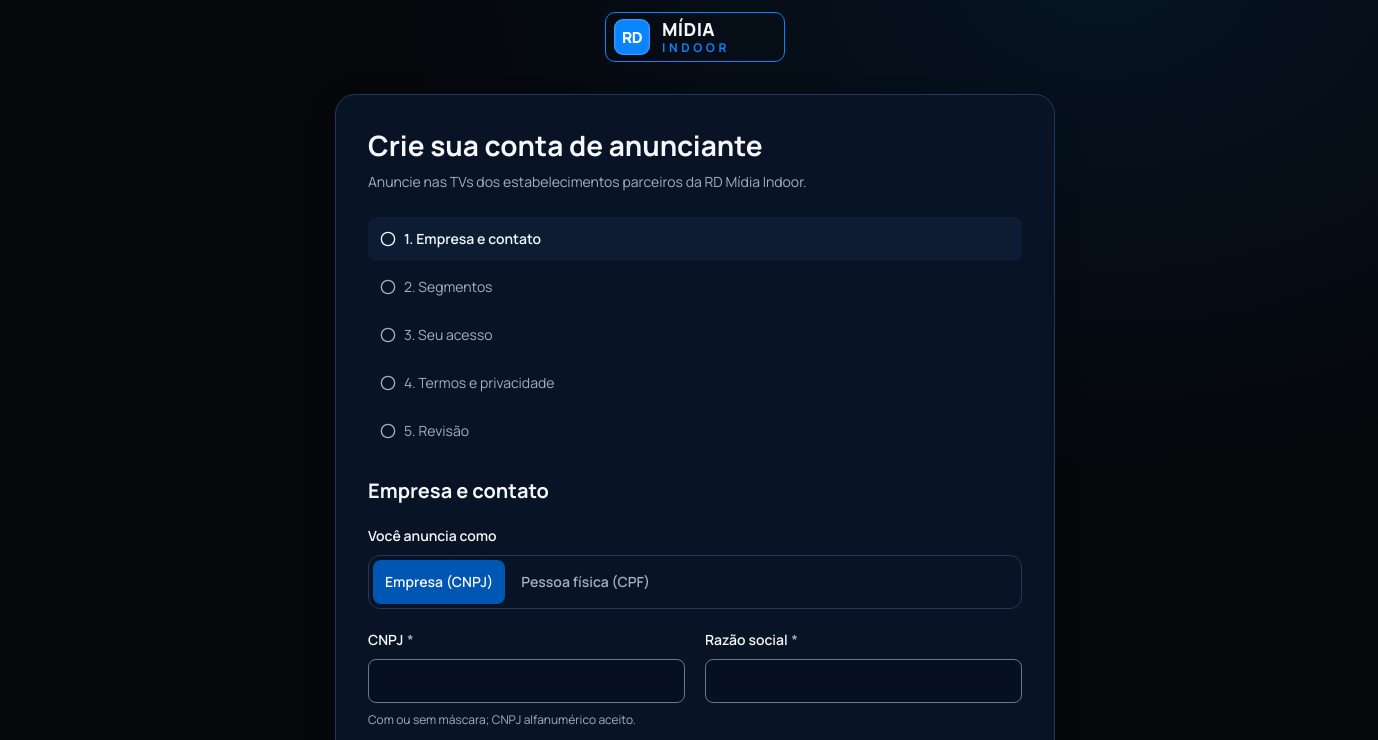
Test: /cadastro-anunciante › termos não publicados: avisa e não permite concluir (nenhum dado é enviado)
Click the button "5. Revisão" at (444, 430), box [368,409,1022,453]
(page scrolled)
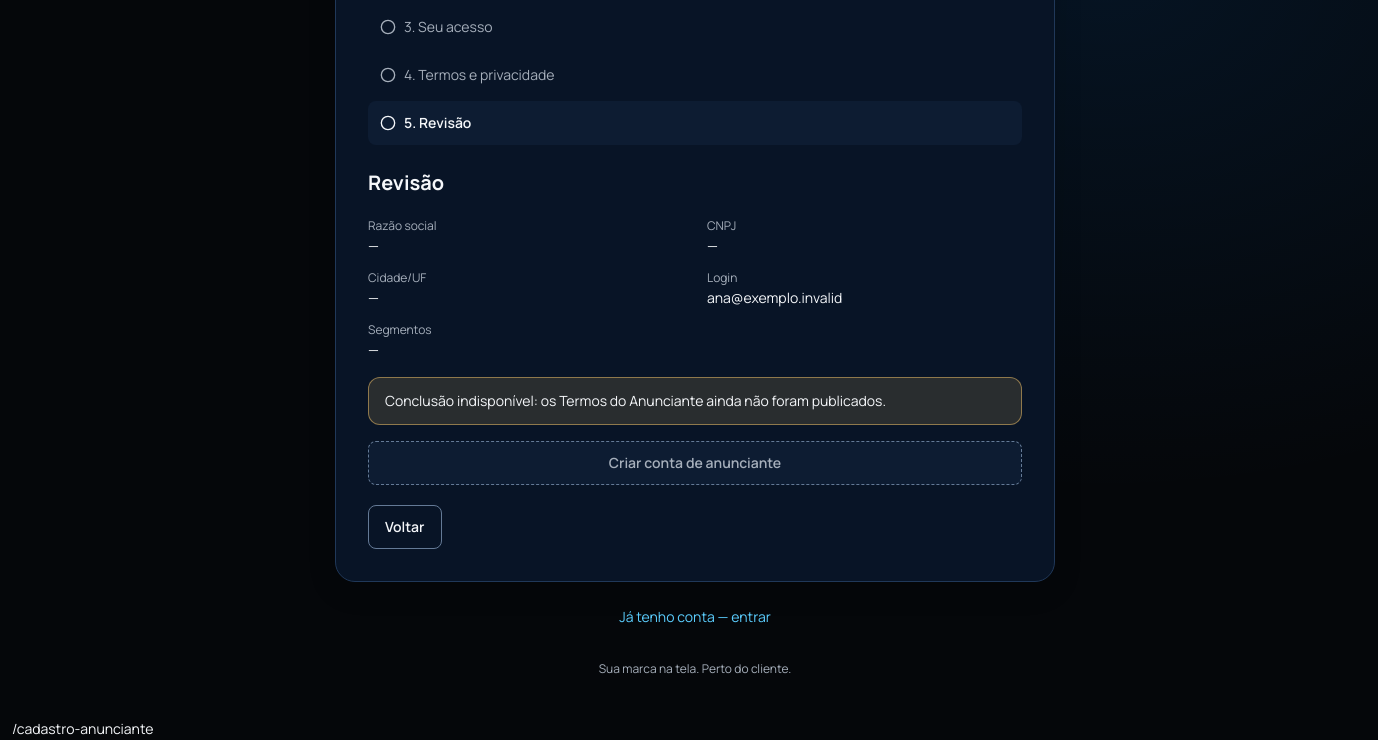
Expected: the text "Conclusão indisponível" is shown, [385,391,886,410]
Expected: the button "Criar conta de anunciante" is disabled, [368,441,1022,485]
